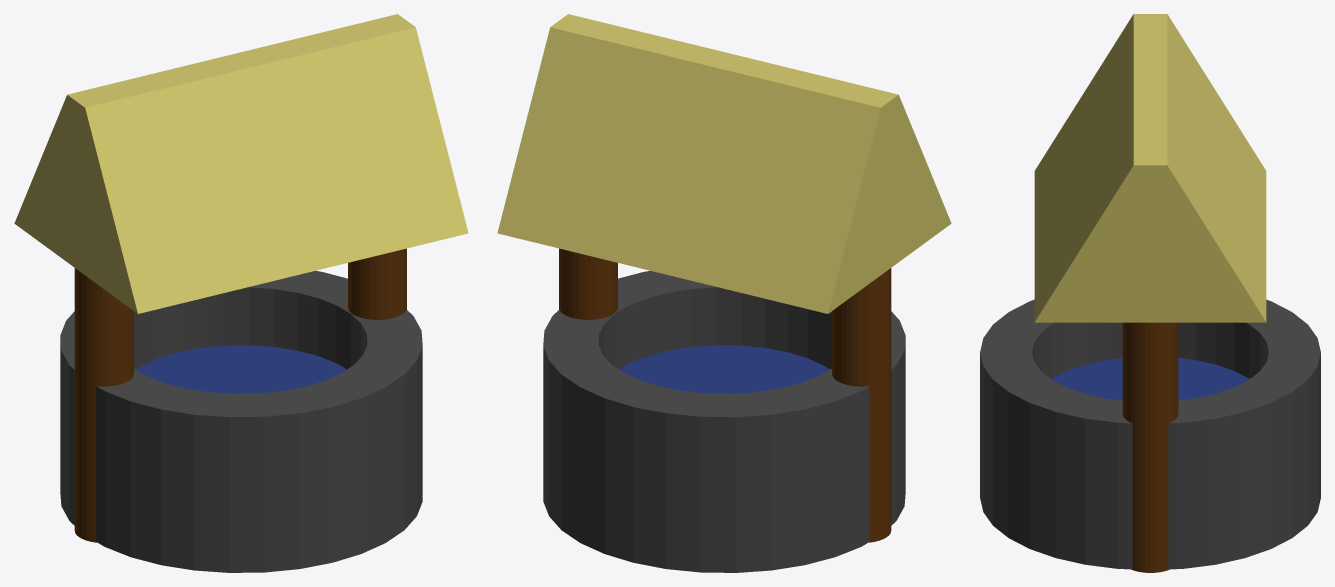
The model's file is Well.fbx.
3 renders of one model, left to right at view 1: azimuth 30°, elevation 25°; view 2: azimuth 150°, elevation 25°; view 3: azimuth 270°, elevation 25°, orthographic. The views are drawn at different scales.
Parts seen in each view (by area): view 1: Roof, Base, Struts, Water; view 2: Roof, Base, Struts, Water; view 3: Base, Roof, Struts, Water.
Part boxes in pixels (x1,y1,x2,y2): Roof: (14,14,468,313); Base: (60,270,422,572); Struts: (74,248,406,542); Water: (136,345,346,393); Roof: (497,14,951,313); Base: (543,270,905,572); Struts: (559,248,891,542); Water: (619,345,829,393); Base: (980,299,1320,569); Roof: (1034,14,1266,322); Struts: (1122,322,1178,572); Water: (1051,358,1249,400).
Size of the model in its own units: 75.34 by 94.98 by 71.69.
